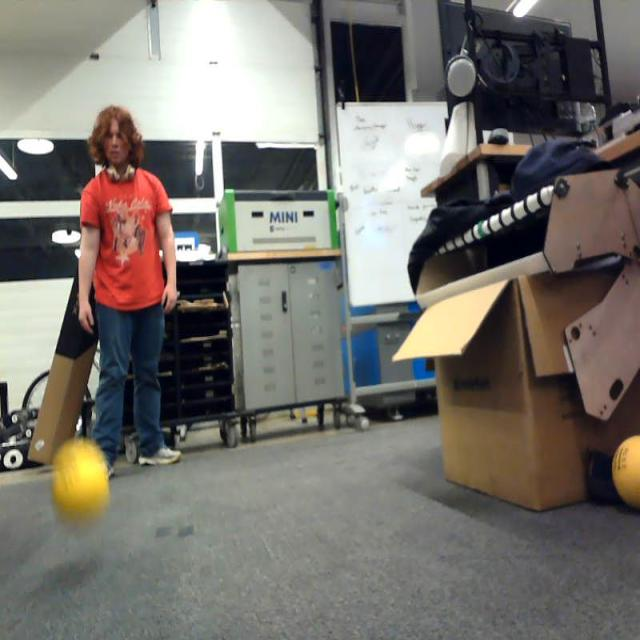Fuel: (52, 442, 109, 520), (611, 434, 640, 510)
